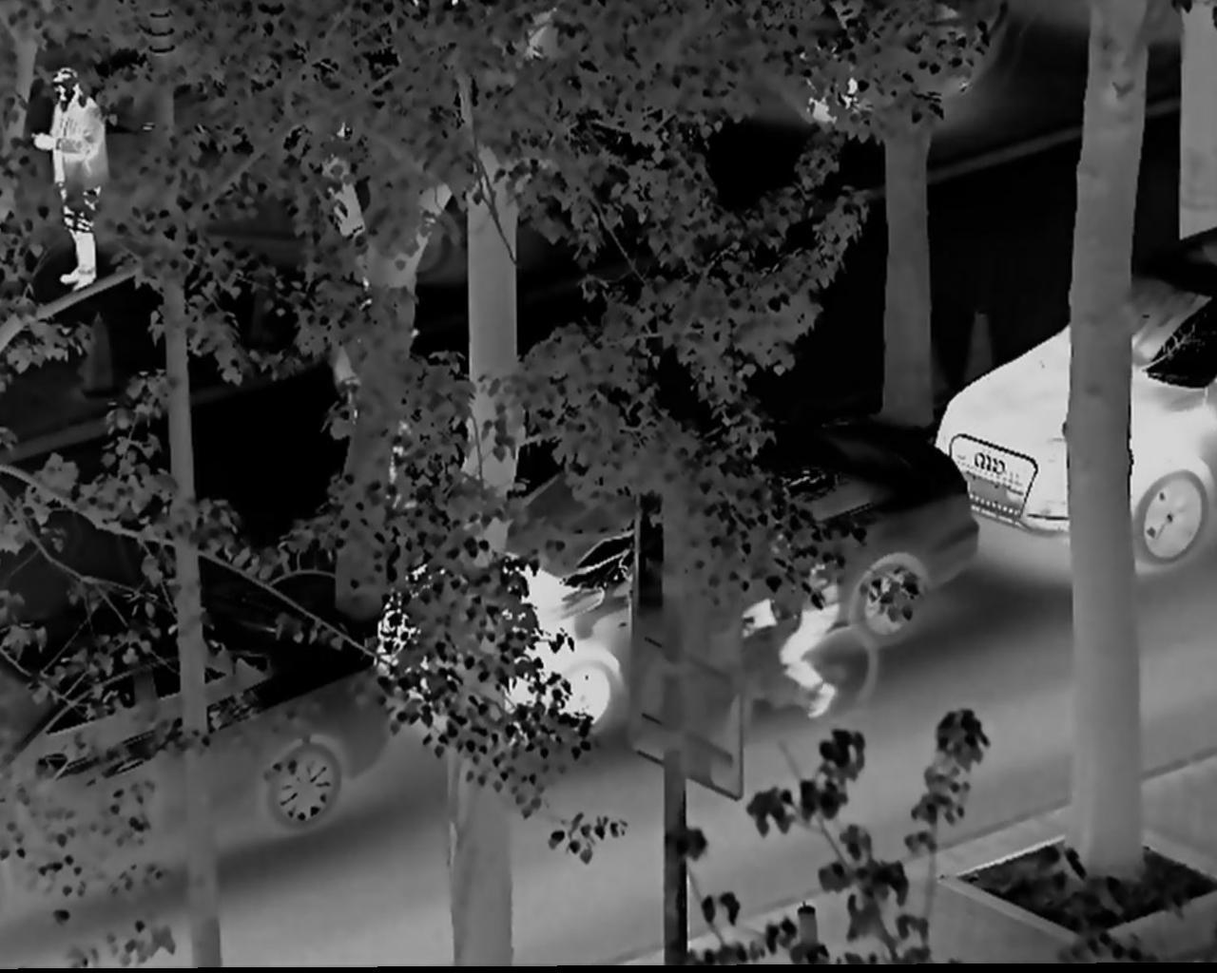person: (20, 54, 120, 294), (741, 515, 836, 725)
